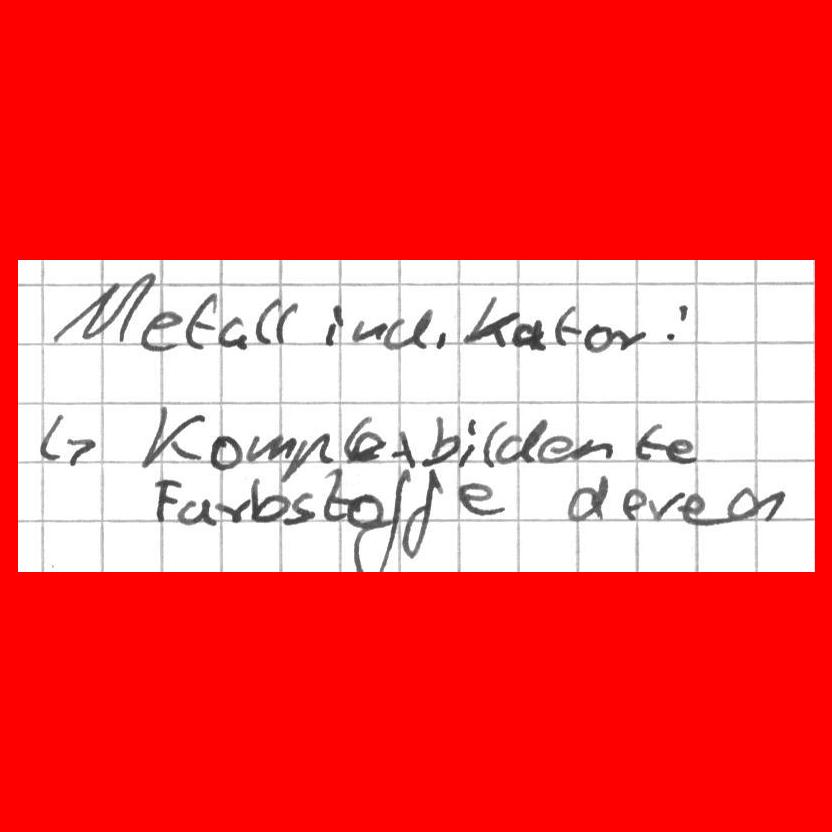Char: (48, 276, 133, 347), (396, 470, 445, 558), (140, 407, 203, 468), (370, 474, 407, 566), (461, 294, 514, 349), (564, 474, 611, 524), (282, 431, 329, 479), (137, 307, 185, 353), (497, 418, 542, 463), (423, 414, 458, 471), (383, 310, 430, 352), (729, 488, 783, 524), (185, 291, 216, 351), (343, 418, 383, 464), (459, 477, 502, 519), (322, 465, 351, 524), (246, 430, 296, 464), (346, 490, 385, 531), (251, 479, 284, 524), (481, 417, 509, 469), (631, 420, 664, 463), (509, 318, 549, 352), (38, 411, 63, 465), (683, 495, 727, 525), (174, 495, 216, 526), (153, 479, 181, 524), (208, 434, 242, 471), (216, 313, 248, 351), (536, 432, 574, 464), (662, 302, 690, 345), (63, 435, 99, 468), (253, 296, 276, 347), (572, 436, 613, 464), (553, 304, 579, 347), (213, 496, 251, 525), (388, 430, 415, 469), (322, 301, 344, 348), (651, 490, 683, 521), (284, 492, 315, 524), (458, 417, 478, 466), (276, 303, 299, 344), (612, 326, 646, 353), (665, 437, 697, 465), (621, 486, 646, 521), (351, 316, 381, 345), (583, 322, 610, 353), (431, 328, 451, 351)
